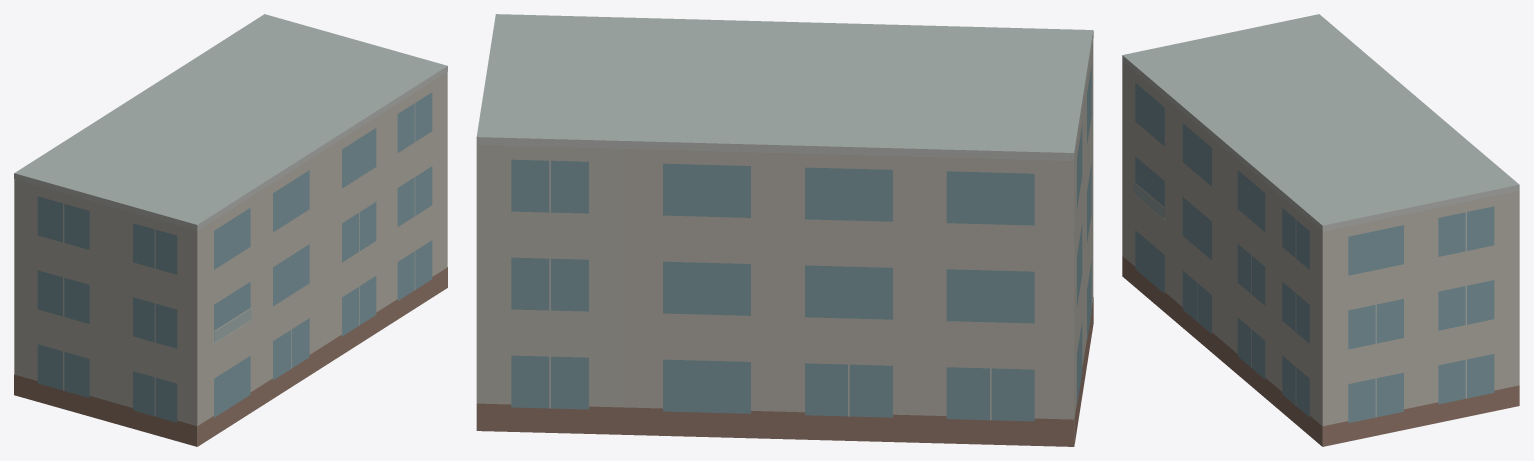
File: survey-upis-32990038.glb
3 renders of one model, left to right at view 1: azimuth 30°, elevation 25°; view 2: azimuth 150°, elevation 25°; view 3: azimuth 270°, elevation 25°, orthographic. The views are drawn at different scales.
Visible parts, largest first — view 1: survey-upis-32990038.tmp; view 2: survey-upis-32990038.tmp; view 3: survey-upis-32990038.tmp.
Boxes of the visible parts, x1,y1,x2,y2 form: survey-upis-32990038.tmp: [14, 14, 447, 446]; survey-upis-32990038.tmp: [476, 14, 1093, 446]; survey-upis-32990038.tmp: [1122, 14, 1519, 446].
Size of the model in its own units: 18.79 by 9.15 by 14.91.
